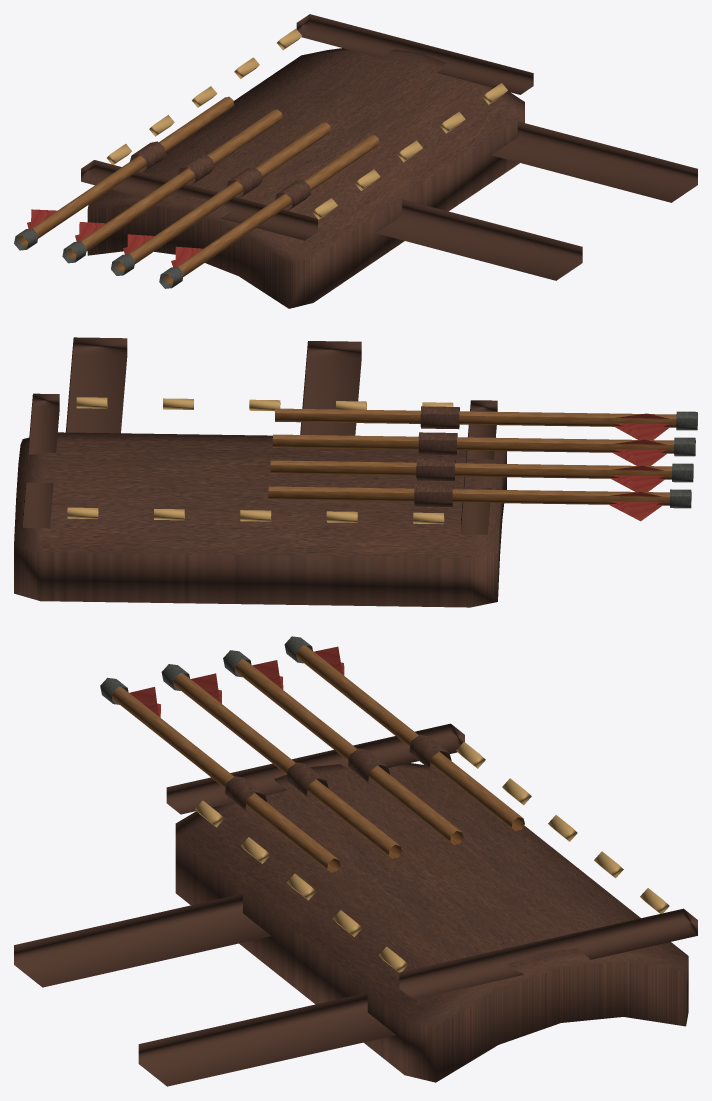
Rendered from BoltQuiver.fbx.
3 renders of one model, top to bottom at view 1: azimuth 30°, elevation 25°; view 2: azimuth 150°, elevation 25°; view 3: azimuth 270°, elevation 25°, orthographic. The views are drawn at different scales.
Parts seen in each view (by area): view 1: BoltQuiver; view 2: BoltQuiver; view 3: BoltQuiver.
Boxes of the visible parts, x1,y1,x2,y2 form: BoltQuiver: (14,14,697,308); BoltQuiver: (14,337,697,607); BoltQuiver: (14,636,697,1086).
Size of the model in its own units: 20.34 by 3.03 by 15.72.
